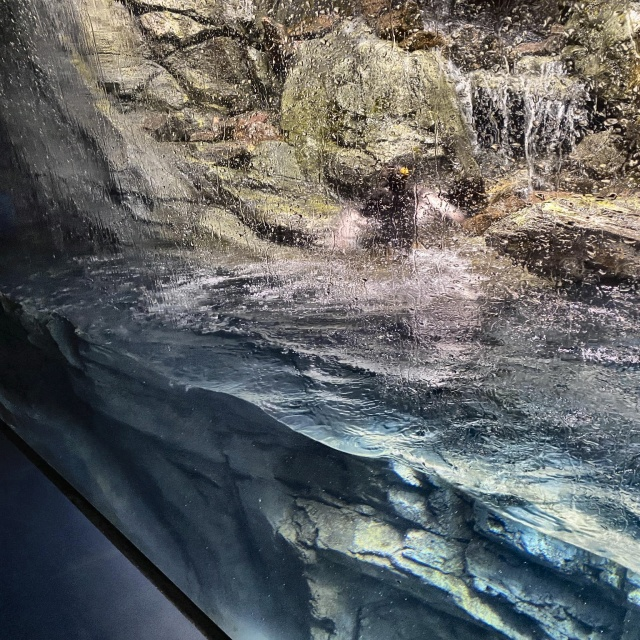puffin: (356, 162, 415, 237)
